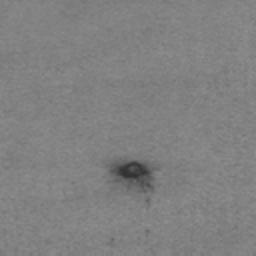Iron sheet ash: (117, 161, 150, 179)
